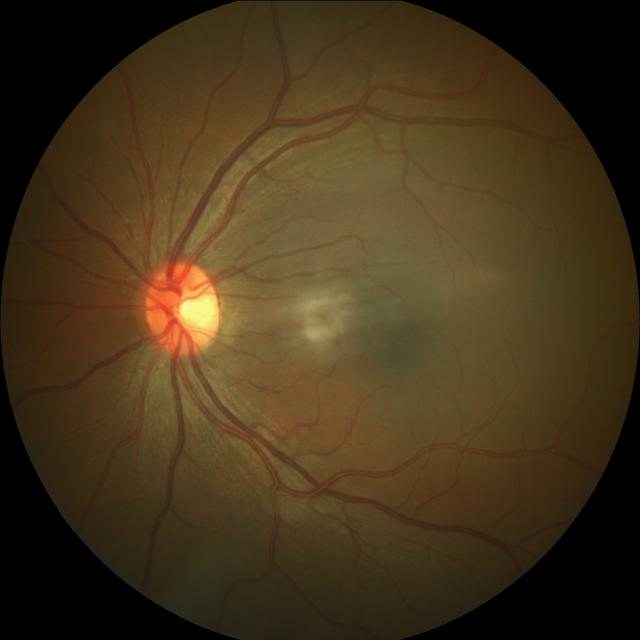OC: (169, 288, 207, 327)
OD: (145, 260, 223, 356)
